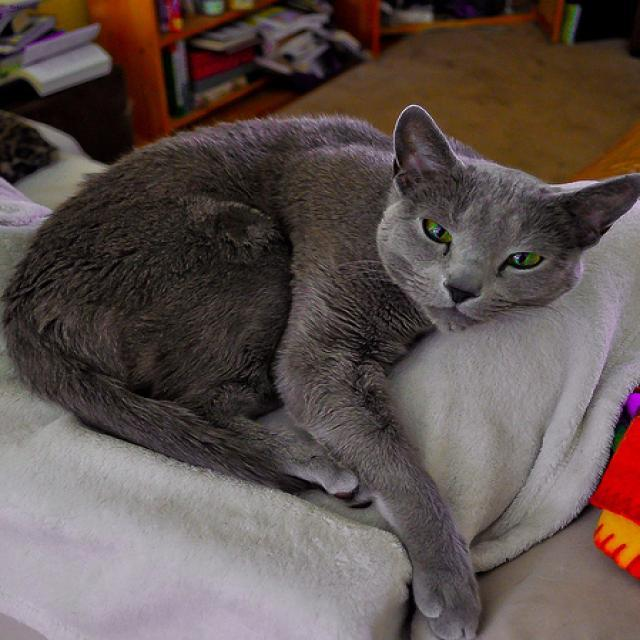Russian_Blue: (376, 101, 640, 338)
